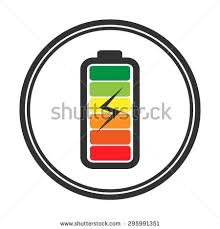charging sign: (68, 44, 148, 175)
